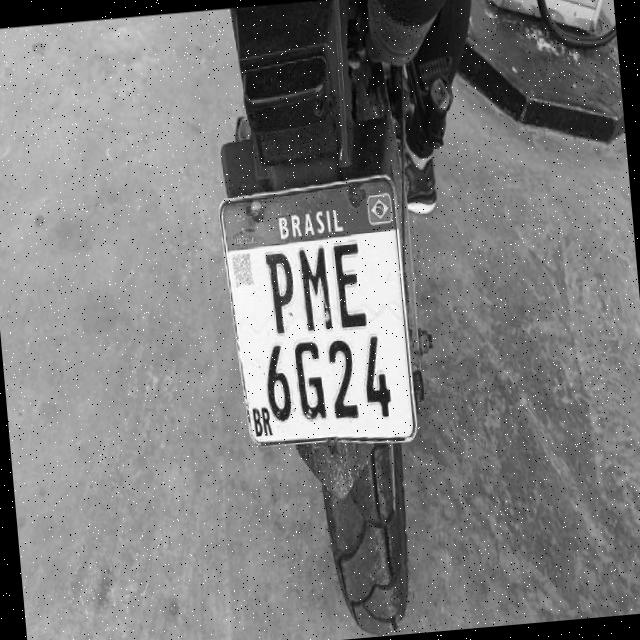placa_mercosul: (221, 176, 415, 443)
